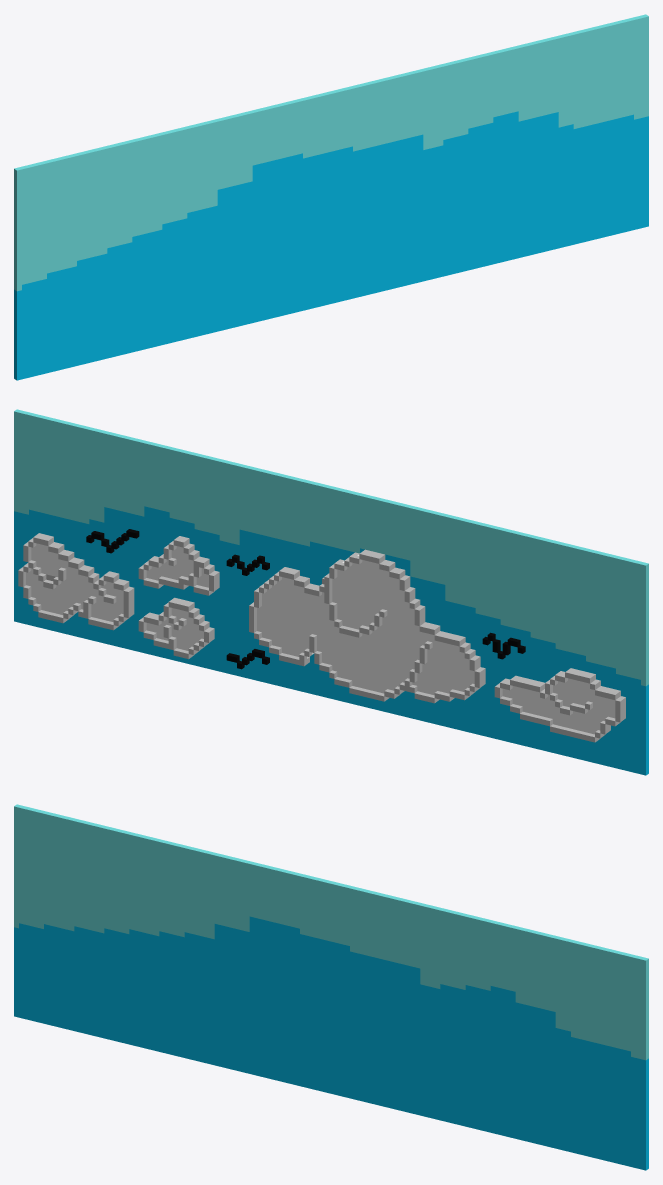
File: clouds.obj
3 views of the same model, one above another, from view 1: azimuth 30°, elevation 25°; view 2: azimuth 150°, elevation 25°; view 3: azimuth 330°, elevation 25° (orthographic).
Size of the model in its own units: 12.6 by 4 by 0.3.
